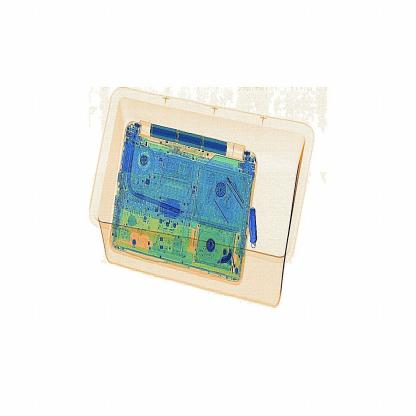knife: (241, 198, 264, 250)
